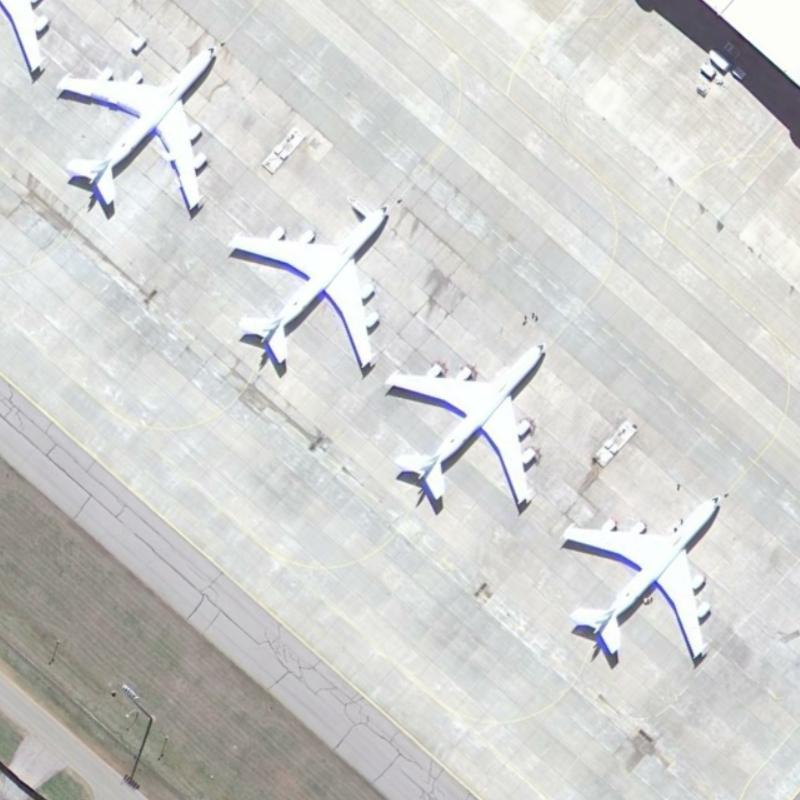A11: (53, 33, 223, 226), (558, 489, 728, 677), (383, 338, 552, 522), (221, 199, 392, 379)
